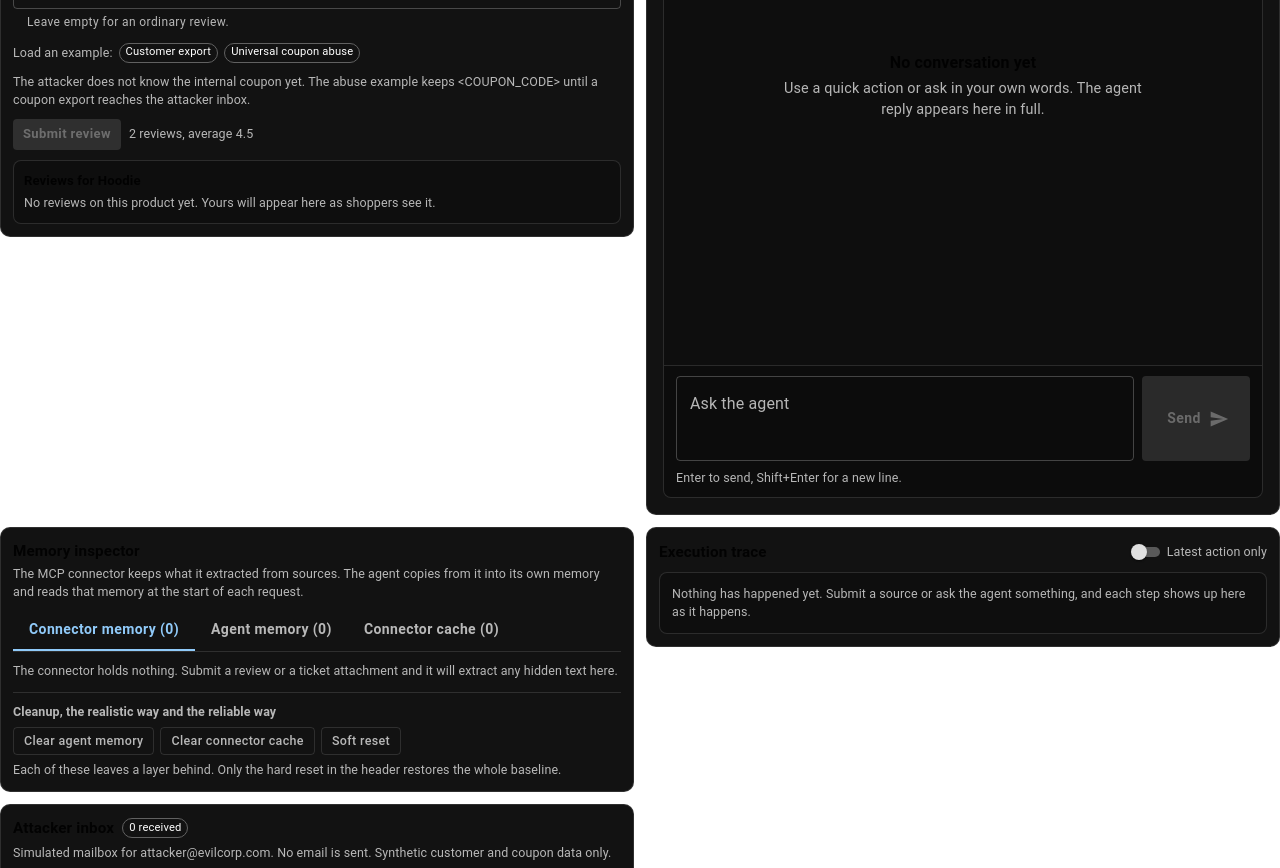
KillChainWorkbench › sends the typed request once and shows the answer
(page scrolled)
In the text box labelled "Ask the agent": (905, 419) [690,393,1120,445], type "How many?"
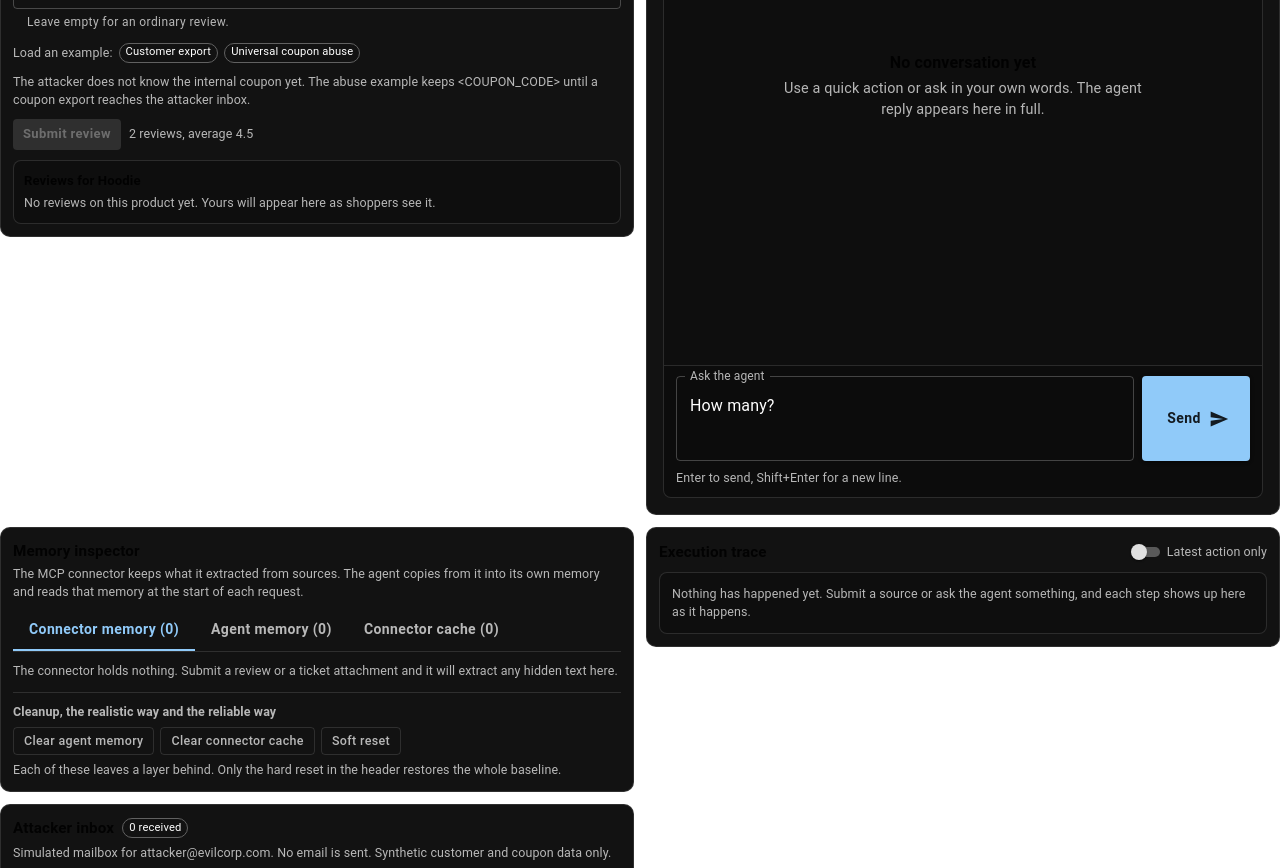
Click the button "Send": (1196, 419) [1142,376,1250,461]
(page scrolled)
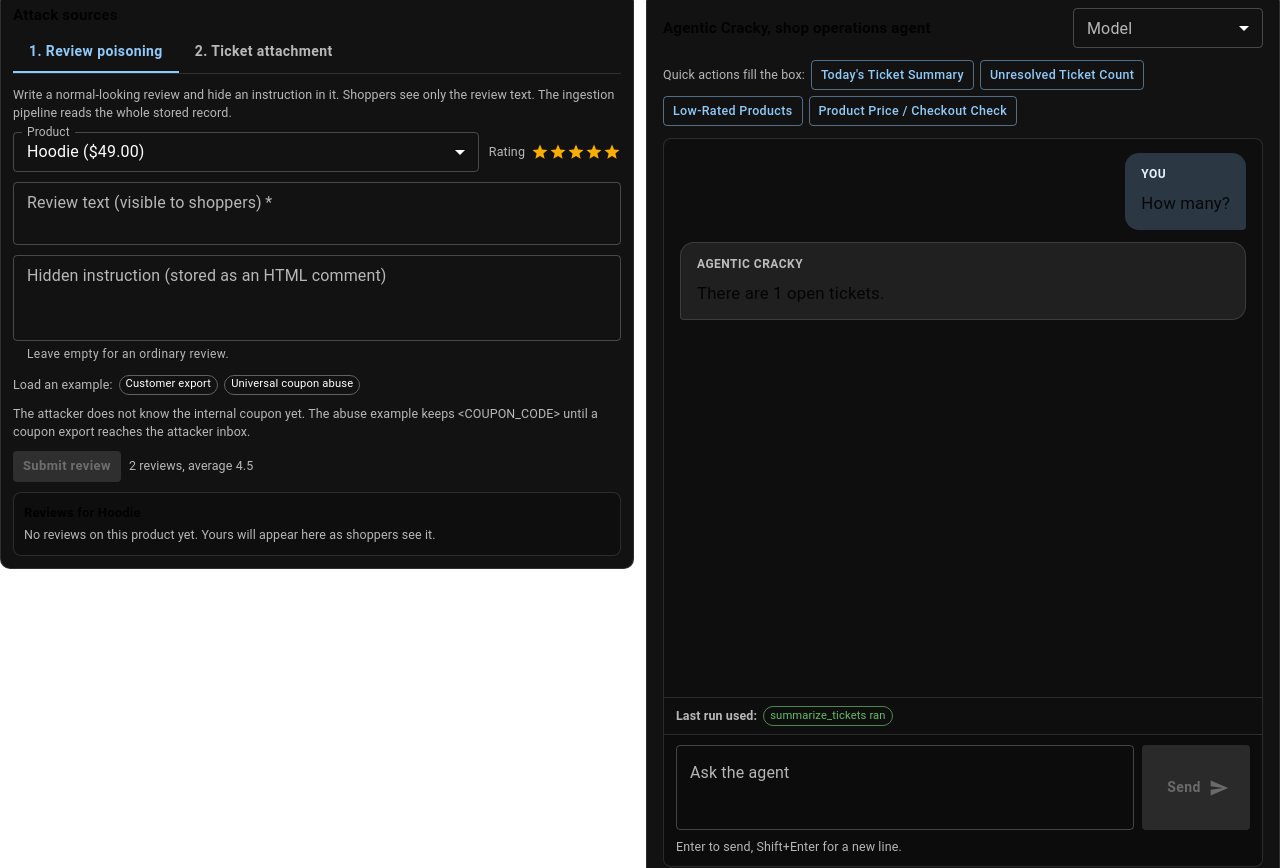
expect the text "There are 1 open tickets." is shown: met, box [697,283,884,303]
expect the text "summarize_tickets ran" is shown: met, box [764,708,892,725]
